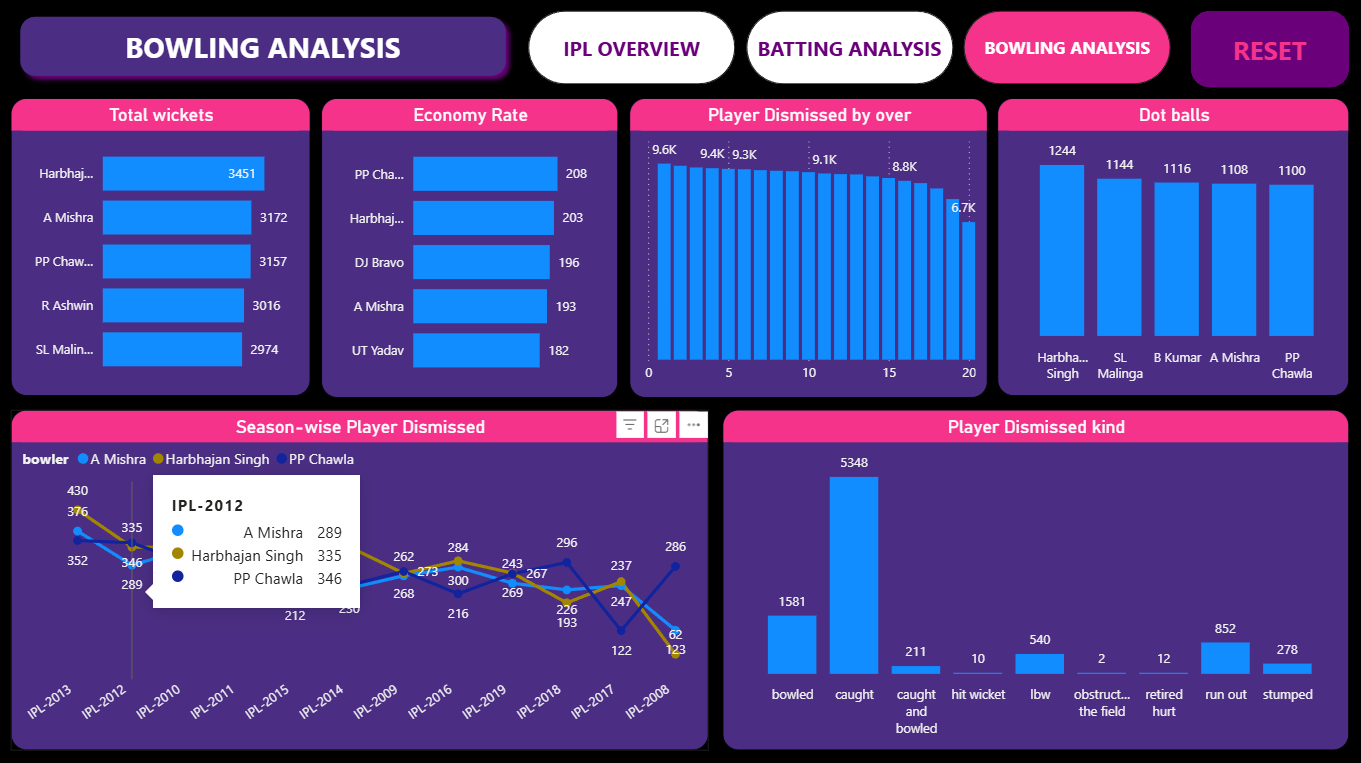

What the dashboard file says about the page in this screenshot:
{"tool":"powerbi","page":{"name":"BOWLING ANALYSIS","canvas":[1280,720],"ordinal":2},"visuals":[{"type":"barChart","title":"Total wickets ","fields":{"Y":["Measures (2).Total_wickets"],"Category":["deliveries.bowler"]},"box":[12,93.6,280.7,279.5],"z":0},{"type":"barChart","title":"Economy Rate","fields":{"Category":["deliveries.bowler"],"Y":["Measures (2).Economy_Rate"]},"box":[302.3,93.6,278.3,280.7],"z":1000},{"type":"columnChart","title":"Player Dismissed by over","fields":{"Category":["deliveries.over"],"Y":["deliveries.player_dismissed"]},"box":[591.4,93.6,335.9,280.7],"z":2000},{"type":"clusteredColumnChart","title":"Player Dismissed kind","fields":{"Category":["deliveries.bowler","deliveries.dismissal_kind"],"Y":["deliveries.player_dismissed"]},"box":[679,385.1,586.6,319.1],"z":3000},{"type":"lineChart","title":"Season-wise Player Dismissed","fields":{"Category":["matches.Season"],"Y":["deliveries.player_dismissed"],"Series":["deliveries.bowler"]},"box":[12,385.1,653.8,319.1],"z":4000},{"type":"columnChart","title":"Dot balls","fields":{"Category":["deliveries.bowler"],"Y":["Measures (2).Dot_balls"]},"box":[935.7,93.6,329.9,279.5],"z":5000},{"type":"shape","box":[12,8.4,472.7,73.2],"z":6000},{"type":"pageNavigator","box":[496.7,12.1,603.5,69.2],"z":7000},{"type":"shape","box":[1117,11.8,148.6,72.2],"z":9000}]}

Visuals, with their boxes in screenshot pixels (x1, y1, x2, y2), scaled from the page's 1280x720 canvas onto the 1361x763 screenshot:
"Total wickets " barChart: 13,99,311,395
"Economy Rate" barChart: 321,99,617,397
"Player Dismissed by over" columnChart: 629,99,986,397
"Player Dismissed kind" clusteredColumnChart: 722,408,1346,746
"Season-wise Player Dismissed" lineChart: 13,408,708,746
"Dot balls" columnChart: 995,99,1346,395
shape: 13,9,515,86
pageNavigator: 528,13,1170,86
shape: 1188,13,1346,89
